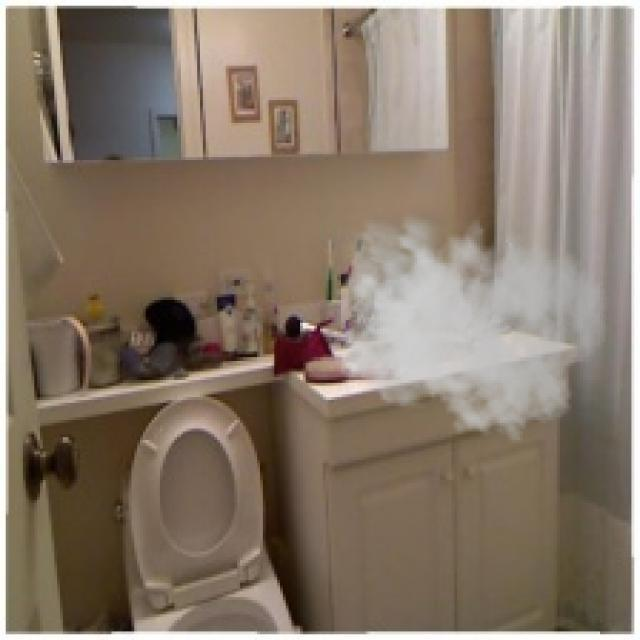Smoke: (328, 203, 608, 443)
